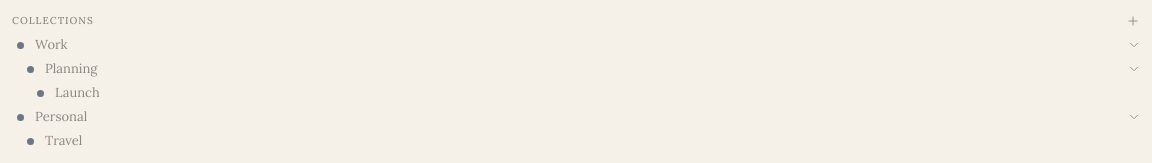
Test: CollectionTreeNav › folds nested and independent branches separately
The image size is (1152, 163).
Click the button named "Collapse Planning" at (1134, 69), box [1124,59,1144,79]
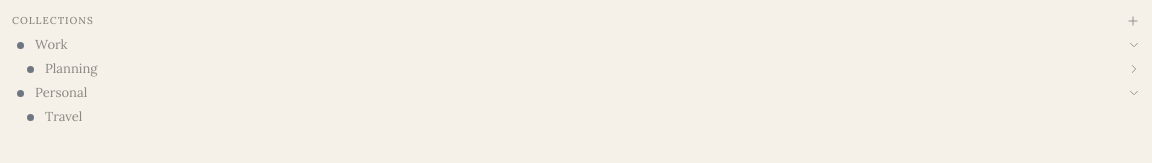
Check: the button "Travel" is shown, box [45,105,1144,129]
Check: the button "Launch" is gone
Click the button named "Collapse Personal" at (1134, 93), box [1124,83,1144,103]
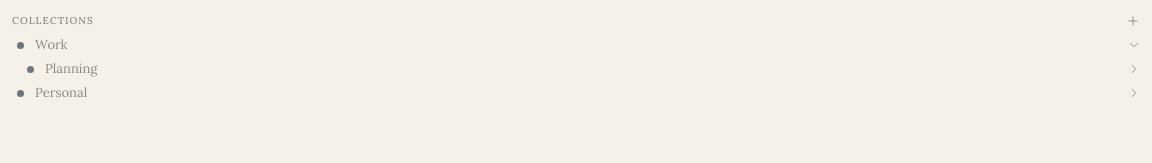
Check: the button "Work" is shown, box [35,33,1117,57]
Check: the button "Travel" is gone
